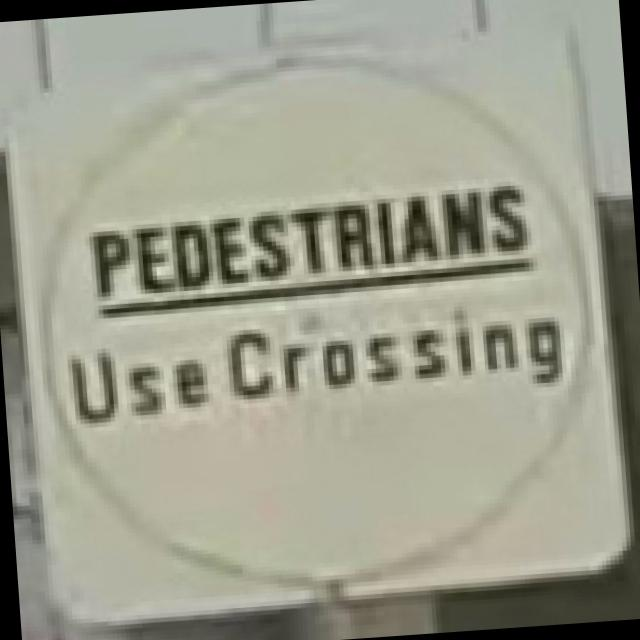pedestriancrossing_sign: (0, 10, 636, 631)
